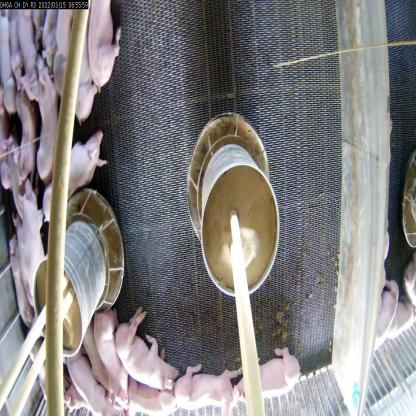Pig: (46, 125, 111, 226), (116, 311, 178, 393), (52, 5, 95, 118), (62, 346, 123, 415), (79, 0, 123, 95), (15, 186, 49, 303), (239, 346, 302, 406), (172, 360, 238, 416), (92, 302, 131, 396), (10, 1, 40, 95), (119, 378, 170, 416)
